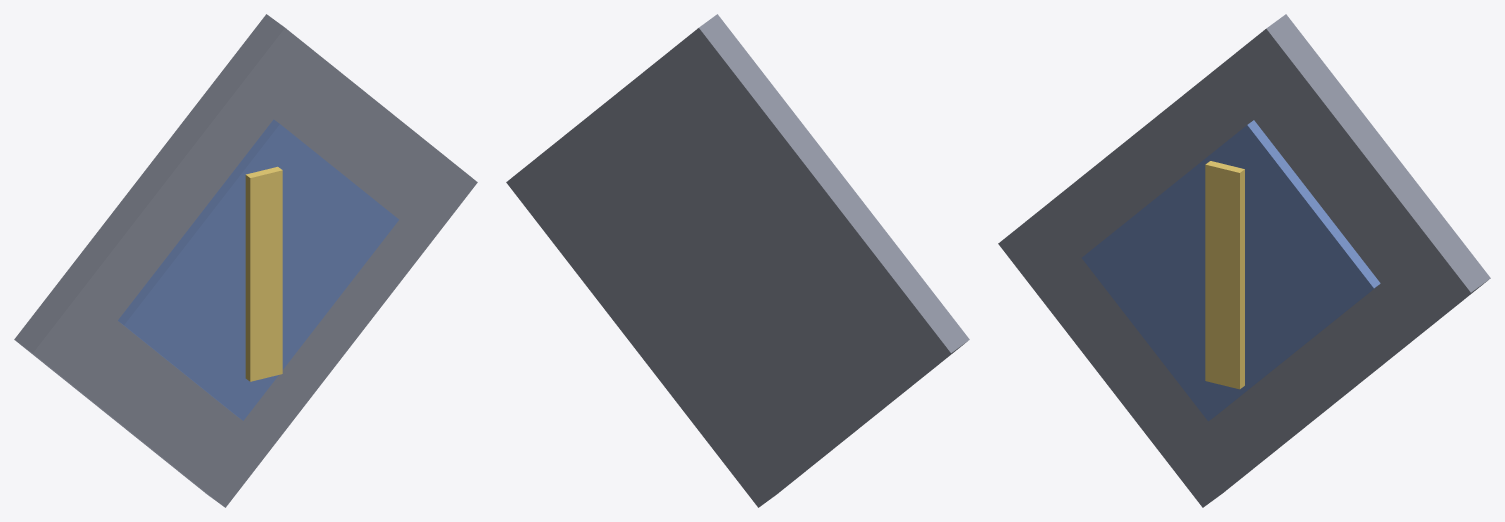
The model's file is shield_kite.glb.
The picture shows the model from 3 angles, left to right: view 1: azimuth 30°, elevation 25°; view 2: azimuth 150°, elevation 25°; view 3: azimuth 330°, elevation 25°; orthographic projection. The views are drawn at different scales.
Parts seen in each view (by area): view 1: shield_kite_00, shield_kite_01, shield_kite_02; view 2: shield_kite_00; view 3: shield_kite_00, shield_kite_01, shield_kite_02.
Boxes of the visible parts, left/top/right/bottom form: shield_kite_00: left=14, top=14, right=477, bottom=507; shield_kite_01: left=118, top=119, right=398, bottom=420; shield_kite_02: left=245, top=166, right=282, bottom=381; shield_kite_00: left=506, top=14, right=969, bottom=507; shield_kite_00: left=998, top=14, right=1490, bottom=507; shield_kite_01: left=1082, top=120, right=1380, bottom=421; shield_kite_02: left=1205, top=161, right=1244, bottom=389.
Size of the model in its own units: 0.6859 by 0.6859 by 0.08.
